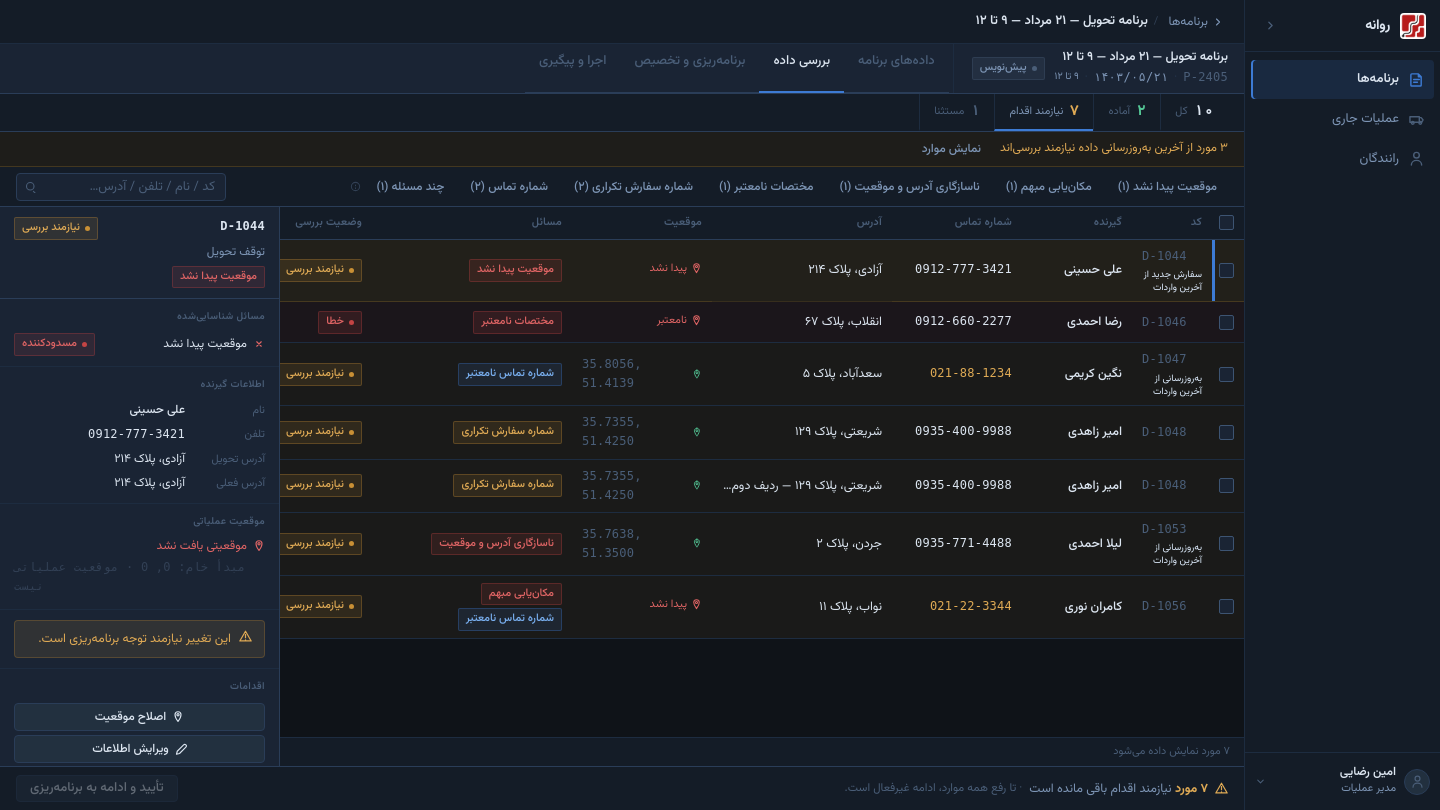
Test case: Review shell › supports multi-selection and select-all over currently visible rows
Expected: the heading "اطلاعات گیرنده" is shown, [201,376,265,392]
Click the checkbox named "انتخاب D-1044" at [1226, 270], box [1219,263,1234,278]
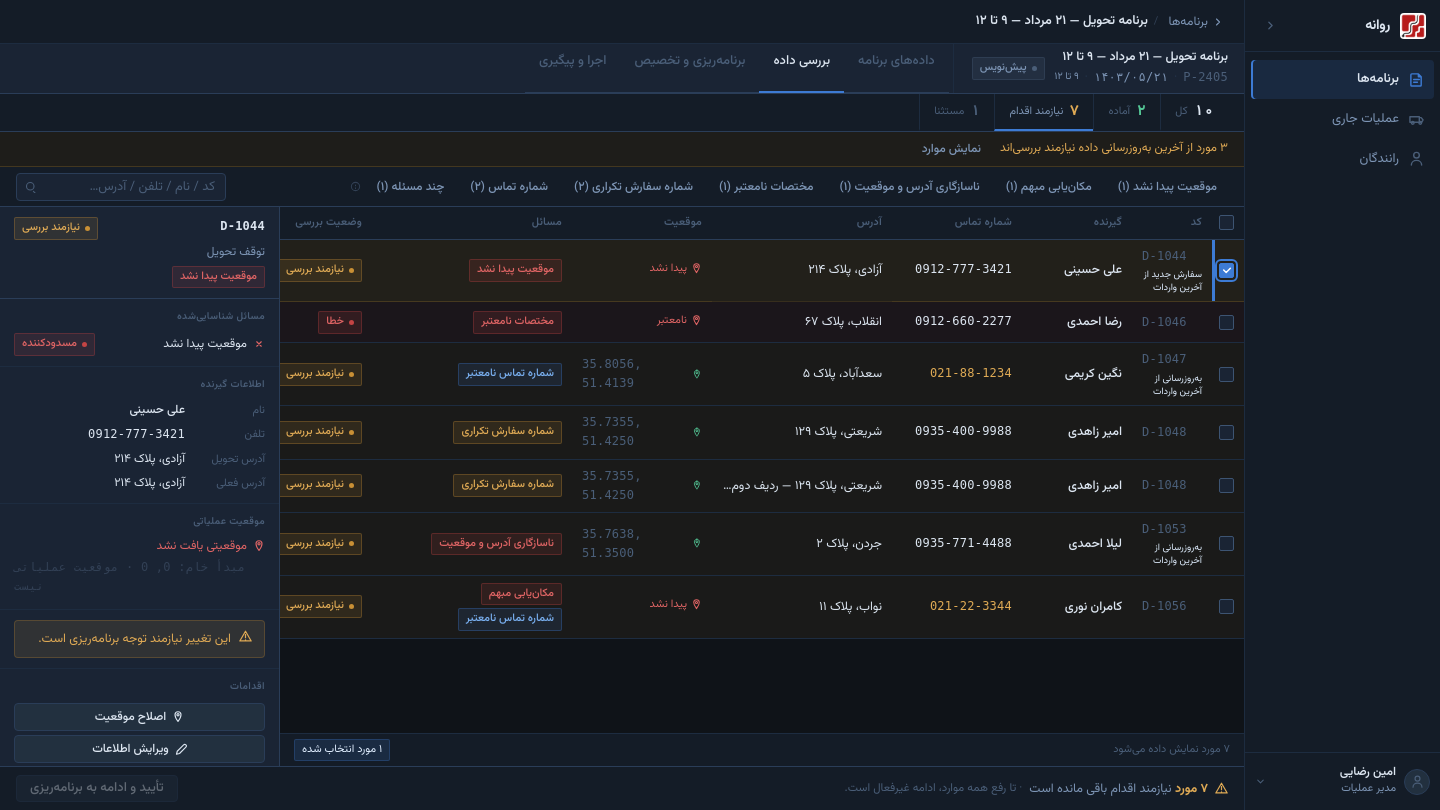
Click the checkbox named "انتخاب D-1046" at [1226, 322], box [1219,315,1234,330]
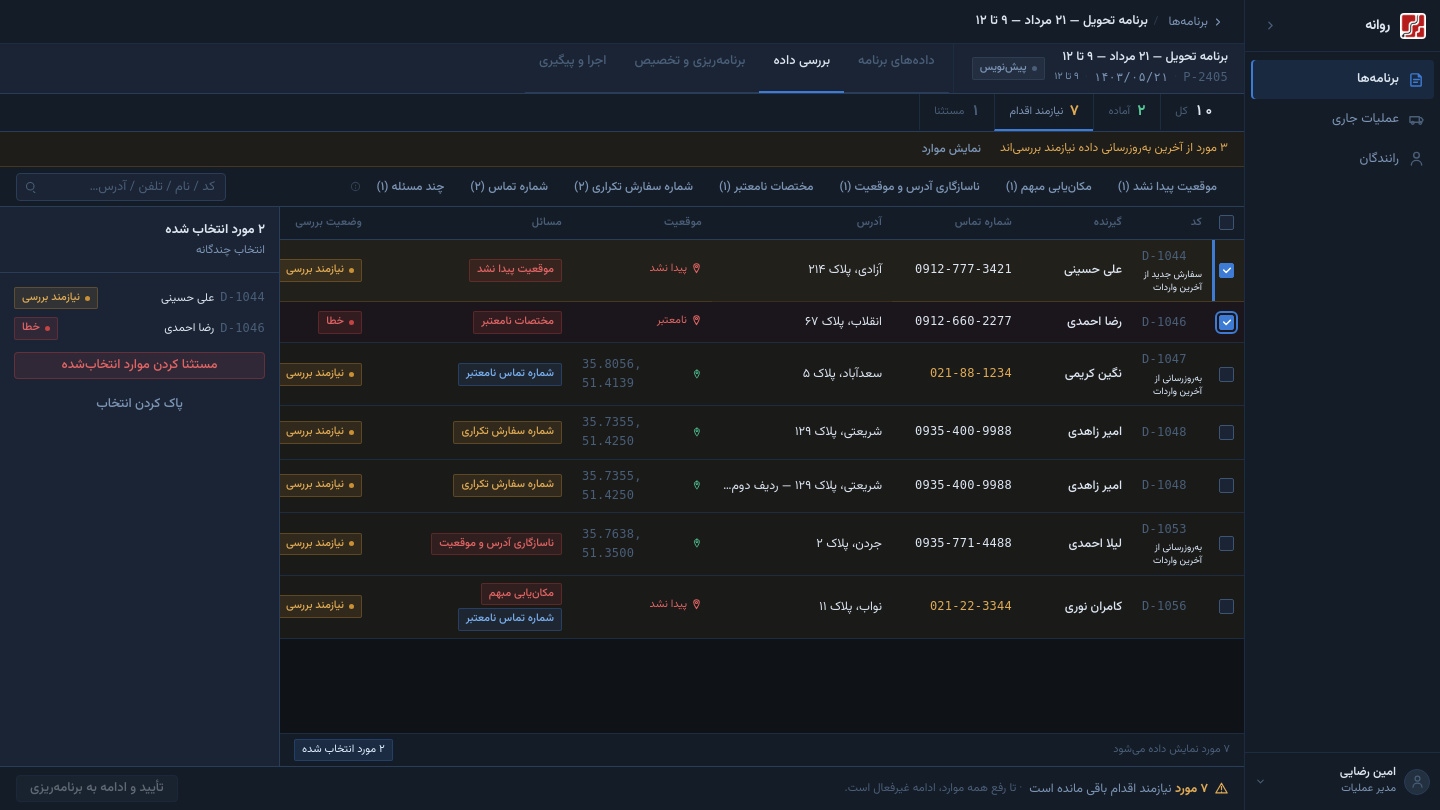
Now the text "۲ مورد انتخاب شده" is shown 2 times, box [294,739,393,761]; [165,220,265,240]
Click the button "پاک کردن انتخاب" at [140, 404], box [14,391,265,418]
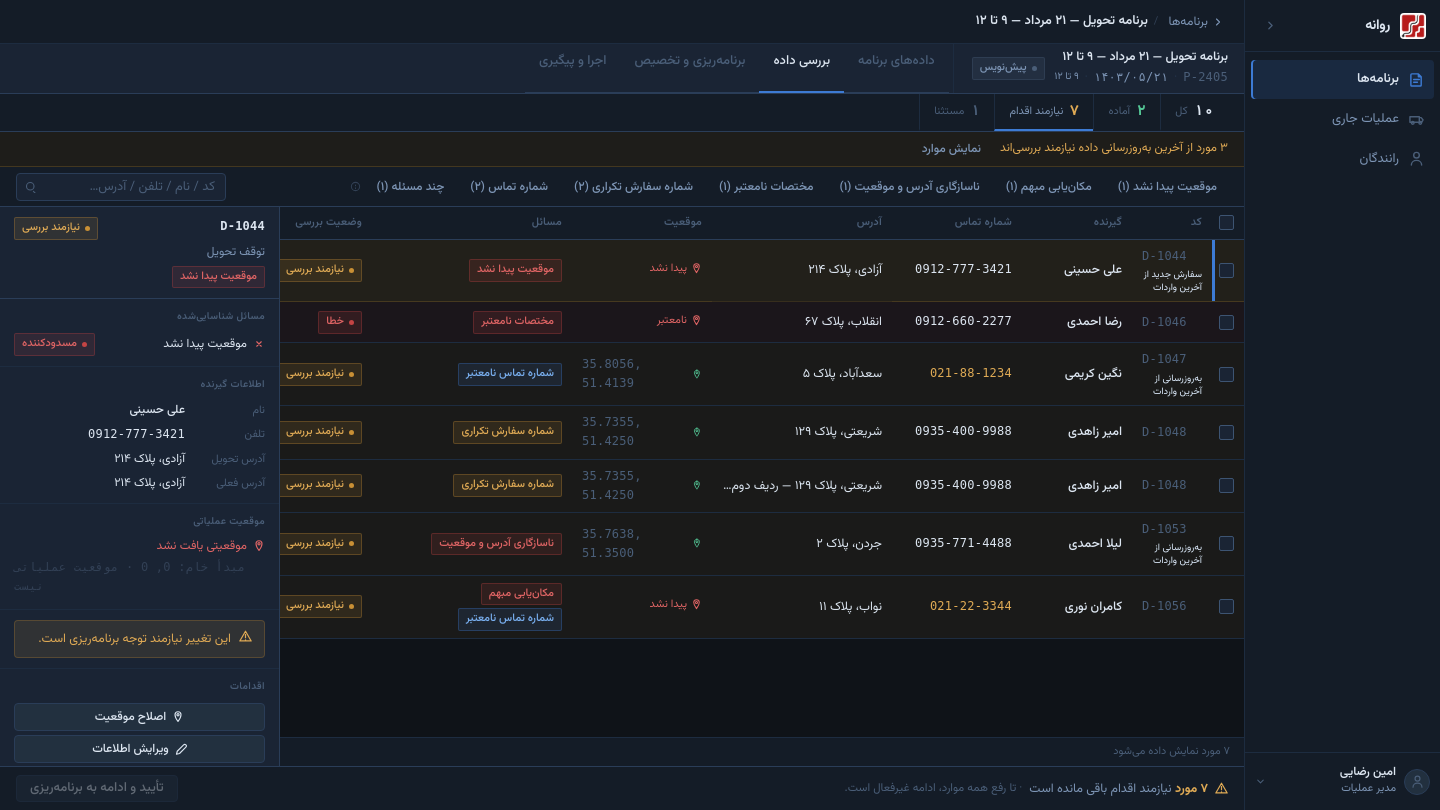
Click the checkbox named "انتخاب همه موارد قابل مشاهده" at [1226, 223], box [1219,215,1234,230]
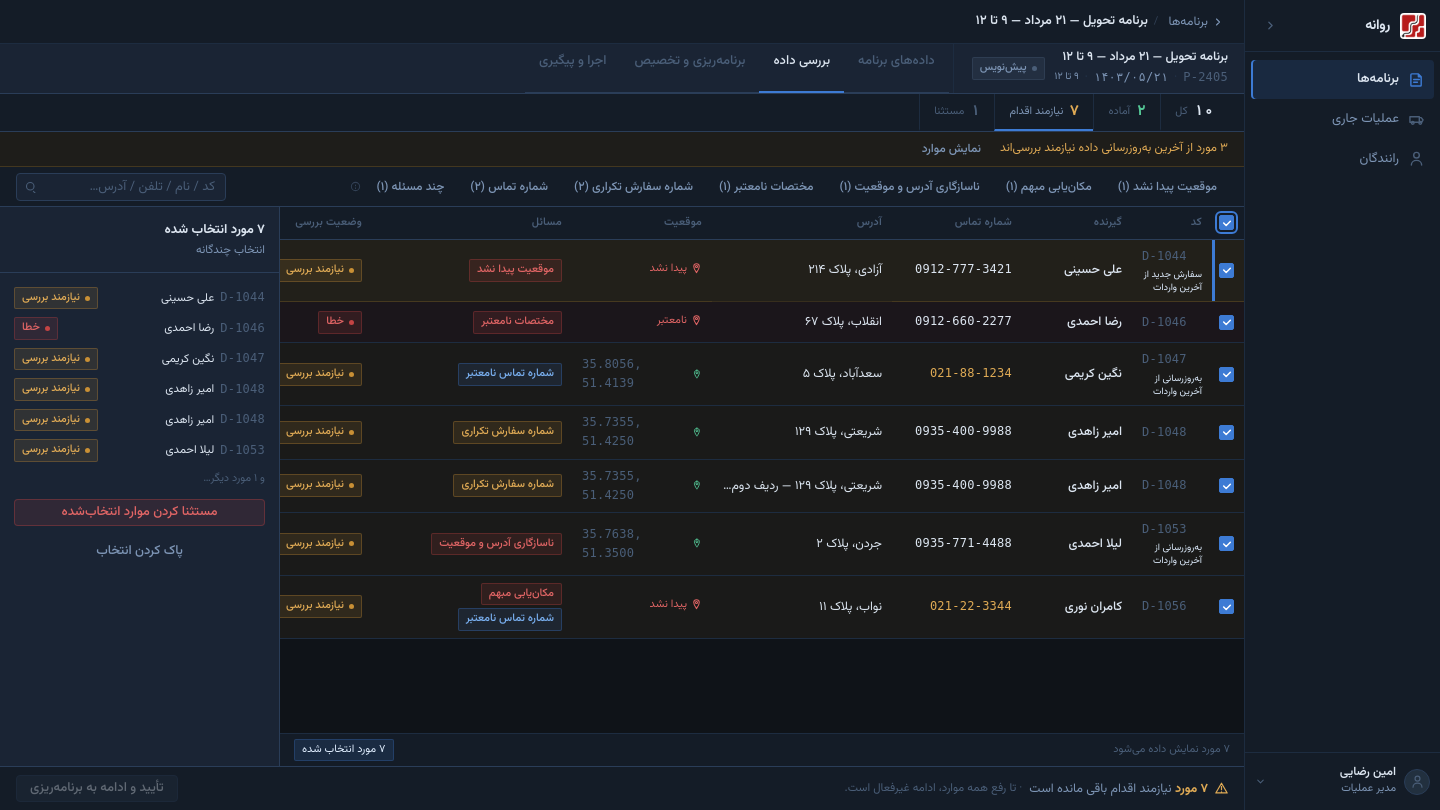
Now the text "۷ مورد انتخاب شده" is shown 2 times, box [294,739,394,761]; [164,220,265,240]
